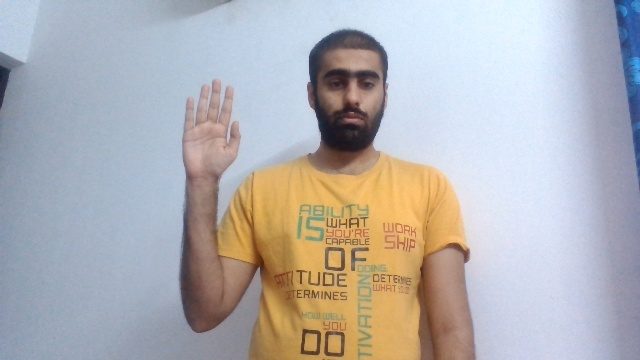paper: (181, 78, 240, 177)
